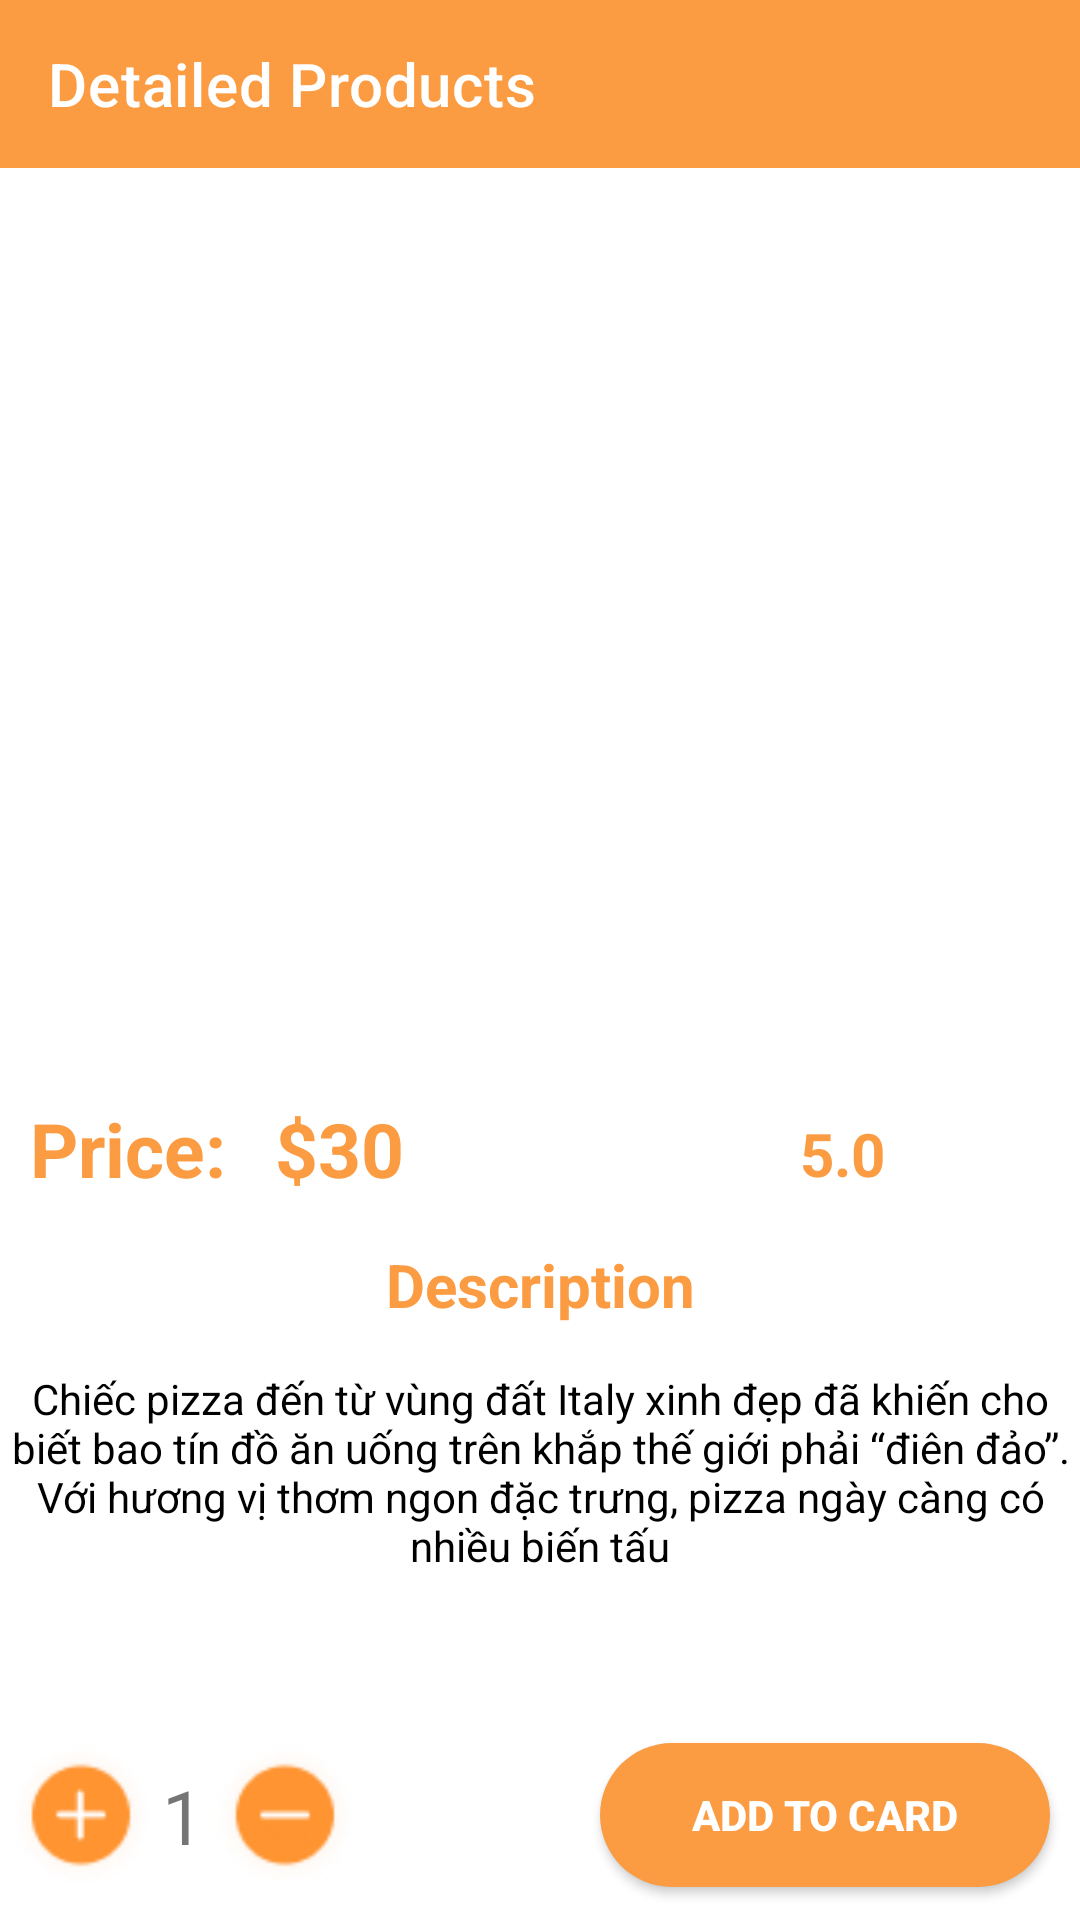

Locate icon controls on the screen. Image size 1080x1920, boxes as bbox=[x1, y1, x2, y2].
plus: bbox=[31, 1763, 131, 1867]
